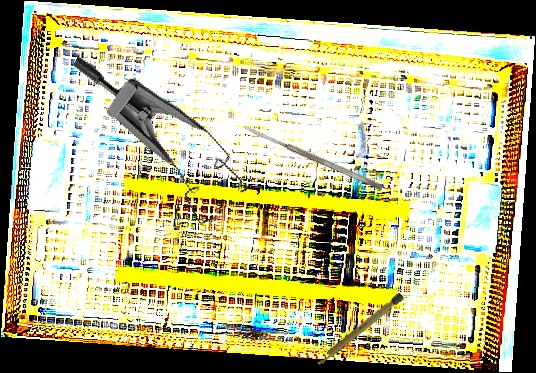Scalpel Handle: (312, 291, 406, 369)
Spatula Surgical: (241, 122, 385, 192)
Speculum: (35, 54, 270, 236)
